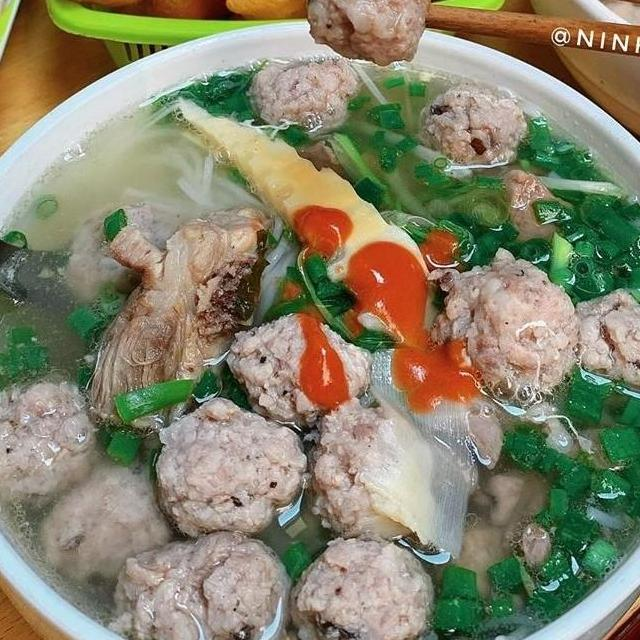bun: (129, 128, 309, 331)
bun moc: (0, 8, 640, 640)
thit heo: (77, 198, 277, 454)
vien moc: (422, 241, 587, 420), (289, 387, 446, 554), (143, 394, 311, 544), (95, 522, 299, 640), (268, 519, 442, 640), (31, 447, 182, 585), (222, 310, 383, 434), (0, 366, 112, 514), (417, 74, 538, 180), (298, 0, 440, 75), (241, 51, 367, 130), (571, 266, 640, 404)
